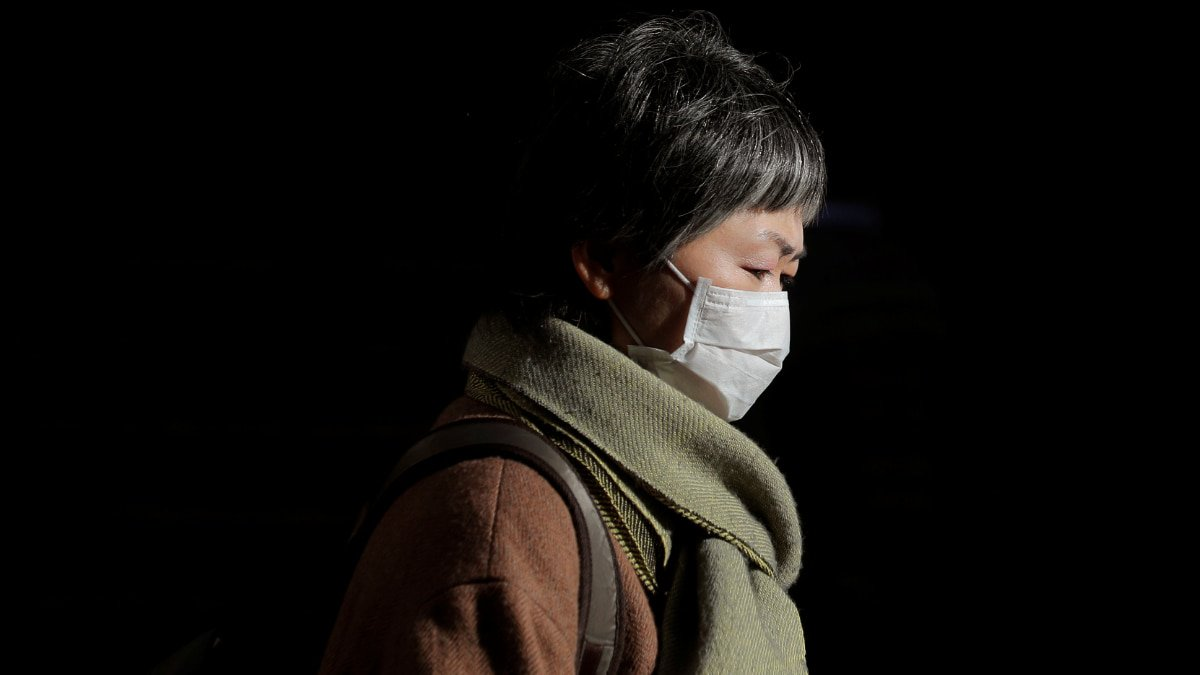mask: (542, 30, 849, 422)
